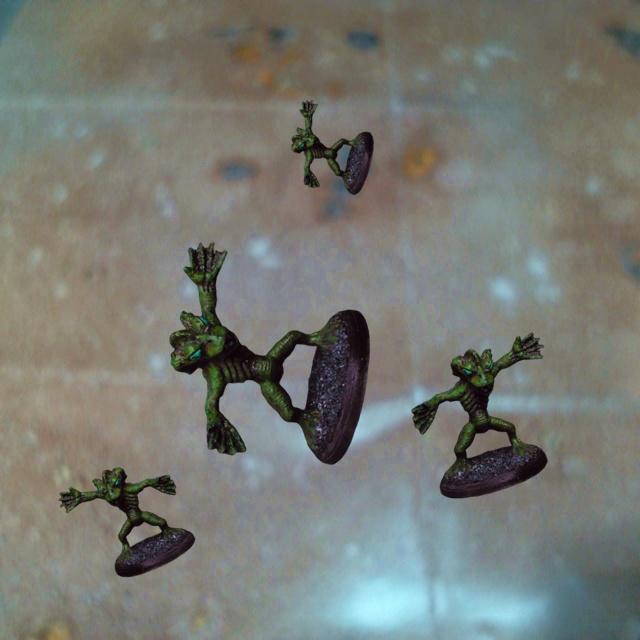pieza_juego: (169, 242, 369, 464), (411, 333, 547, 498), (59, 467, 194, 576), (291, 100, 373, 194)
